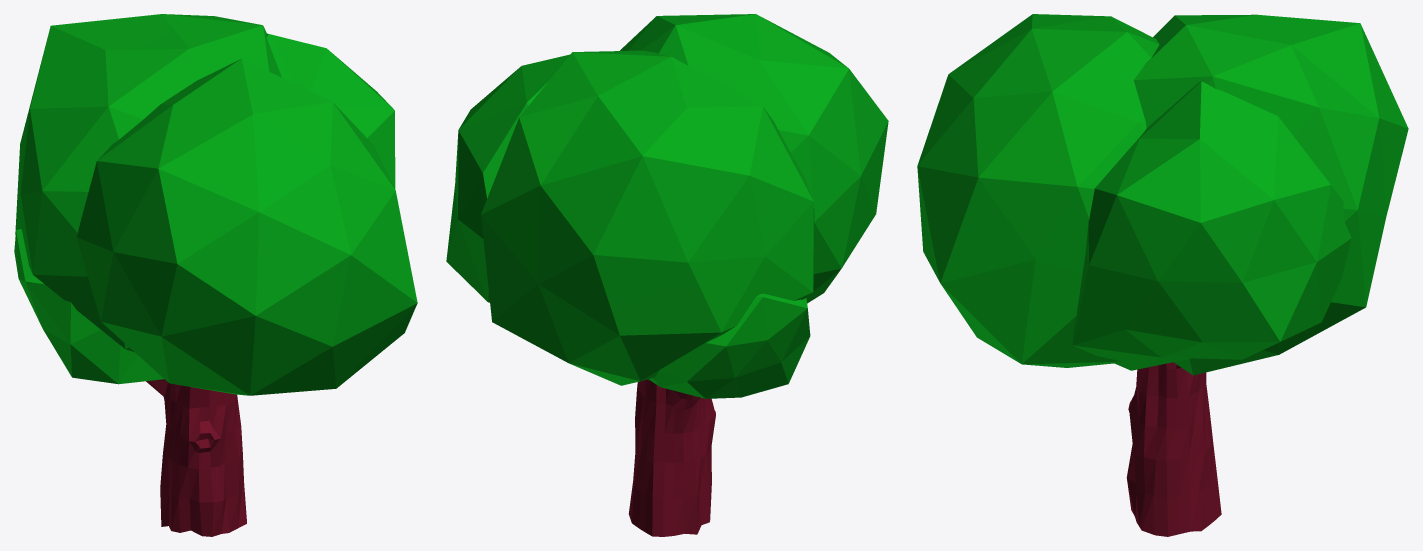
Rendered from tree.glb.
3 views of the same model, side by side, from view 1: azimuth 30°, elevation 25°; view 2: azimuth 150°, elevation 25°; view 3: azimuth 270°, elevation 25° (orthographic). The views are drawn at different scales.
Parts seen in each view (by area): view 1: Icosphere, Cylinder; view 2: Icosphere, Cylinder; view 3: Icosphere, Cylinder.
Part boxes in pixels (<box>): Icosphere: <box>14,14,417,395</box>; Cylinder: <box>146,379,246,536</box>; Icosphere: <box>446,14,888,398</box>; Cylinder: <box>628,379,715,536</box>; Icosphere: <box>917,14,1408,375</box>; Cylinder: <box>1126,362,1221,536</box>.
Size of the model in its own units: 16.5 by 21.82 by 19.57.
